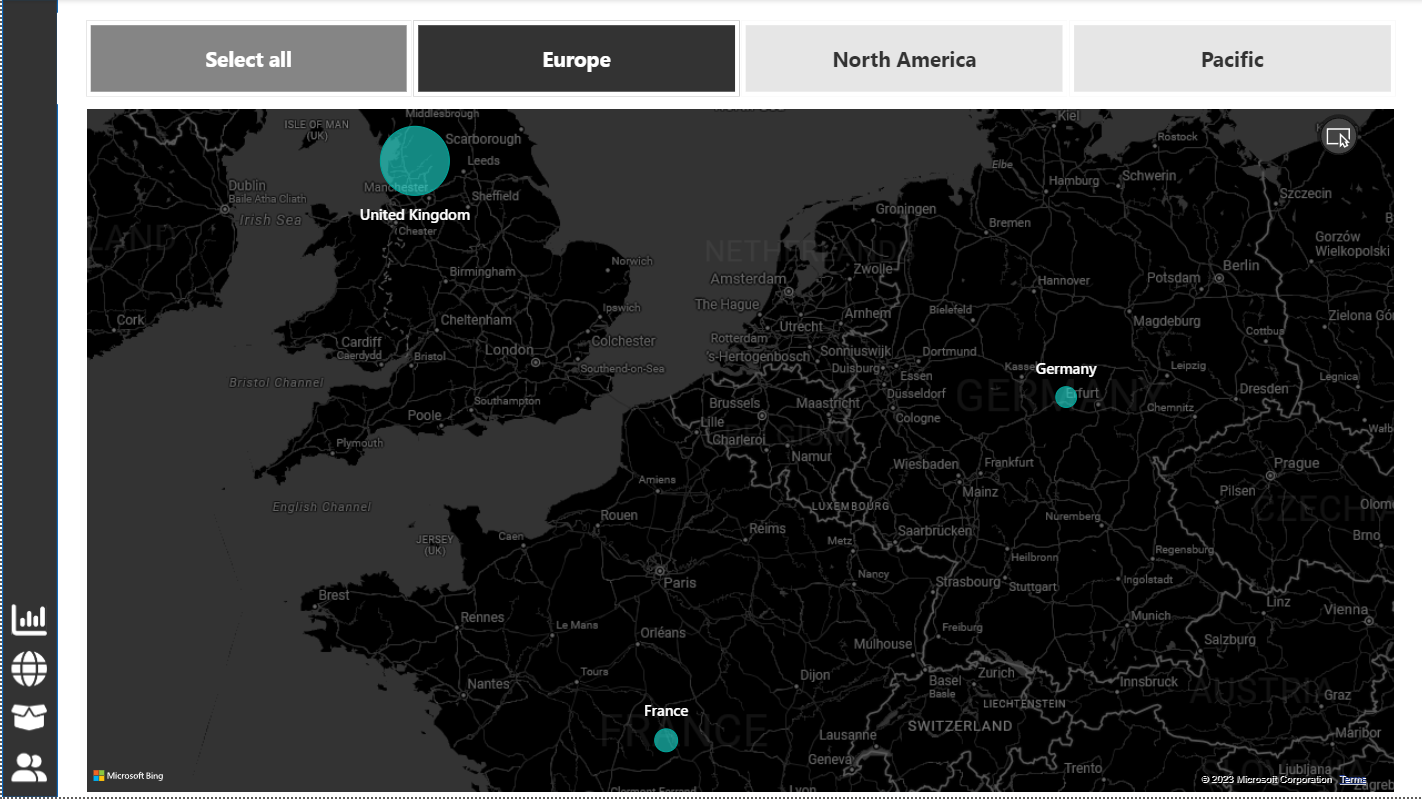

The page's visual inventory and layout, read from the dashboard file:
{"tool":"powerbi","page":{"name":"Map","canvas":[1280,720],"ordinal":1},"visuals":[{"type":"shape","title":"Left Nav Background","box":[0,0,50,720],"z":0},{"type":"actionButton","box":[5,539.7,50,40],"z":0,"group":"g1"},{"type":"actionButton","box":[5,583.9,50,40],"z":1000,"group":"g1"},{"type":"map","fields":{"Category":["Territory Lookup.Country"],"Size":["Measure Table.Total Orders"]},"box":[72.5,95,1187.5,625],"z":1000},{"type":"slicer","fields":{"Values":["Territory Lookup.Continent"]},"box":[50,12.5,1230,82.5],"z":2000},{"type":"actionButton","box":[5,628,50,40],"z":2000,"group":"g1"},{"type":"actionButton","box":[5,672.2,50,40],"z":3000,"group":"g1"},{"type":"group","id":"g1","title":"Navigation Buttons","box":[5,539.7,50,172.5],"z":3000}]}

Visuals, with their boxes in screenshot pixels (x1, y1, x2, y2), scaled from the page's 1280x720 canvas onto the 1422x799 screenshot:
"Left Nav Background" shape: locate(0, 0, 56, 798)
actionButton: locate(6, 599, 61, 643)
actionButton: locate(6, 648, 61, 692)
map - Territory Lookup.Country x Measure Table.Total Orders: locate(81, 105, 1400, 798)
slicer - Territory Lookup.Continent: locate(56, 14, 1421, 105)
actionButton: locate(6, 697, 61, 741)
actionButton: locate(6, 746, 61, 790)
"Navigation Buttons" group: locate(6, 599, 61, 790)
